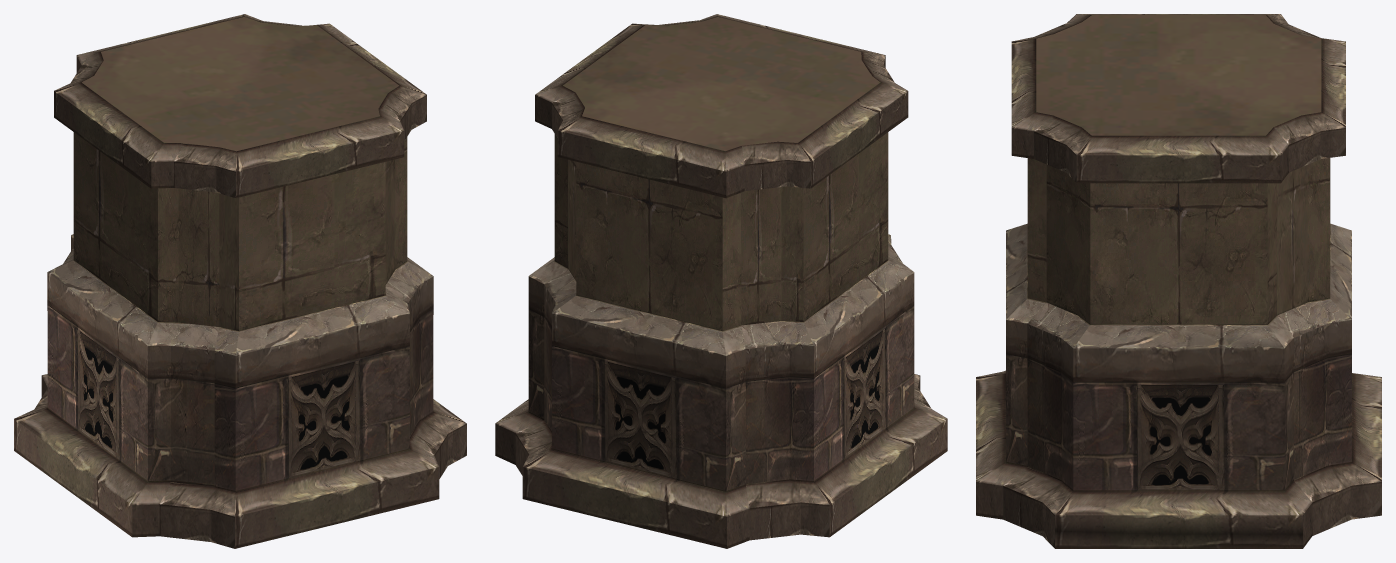
Rendered from A03_pillar_f_half.FBX.
The picture shows the model from 3 angles, left to right: view 1: azimuth 30°, elevation 25°; view 2: azimuth 150°, elevation 25°; view 3: azimuth 270°, elevation 25°; orthographic projection. The views are drawn at different scales.
Visible parts, largest first — view 1: A03_pillar_f_half; view 2: A03_pillar_f_half; view 3: A03_pillar_f_half.
Part boxes in pixels (<box>): A03_pillar_f_half: <box>14,14,466,548</box>; A03_pillar_f_half: <box>495,14,947,548</box>; A03_pillar_f_half: <box>976,14,1381,548</box>.
Size of the model in its own units: 2.58 by 2.72 by 2.58.
Materials: 1 (1 with a texture image).
